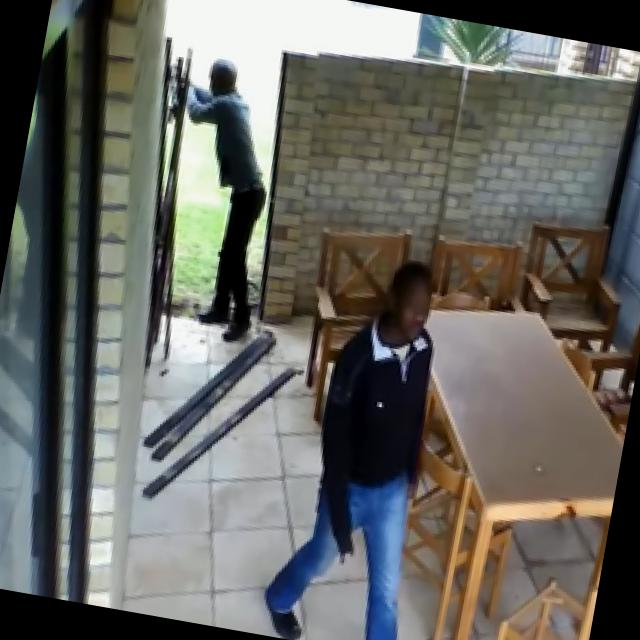person: (257, 245, 468, 640), (138, 53, 292, 345)
